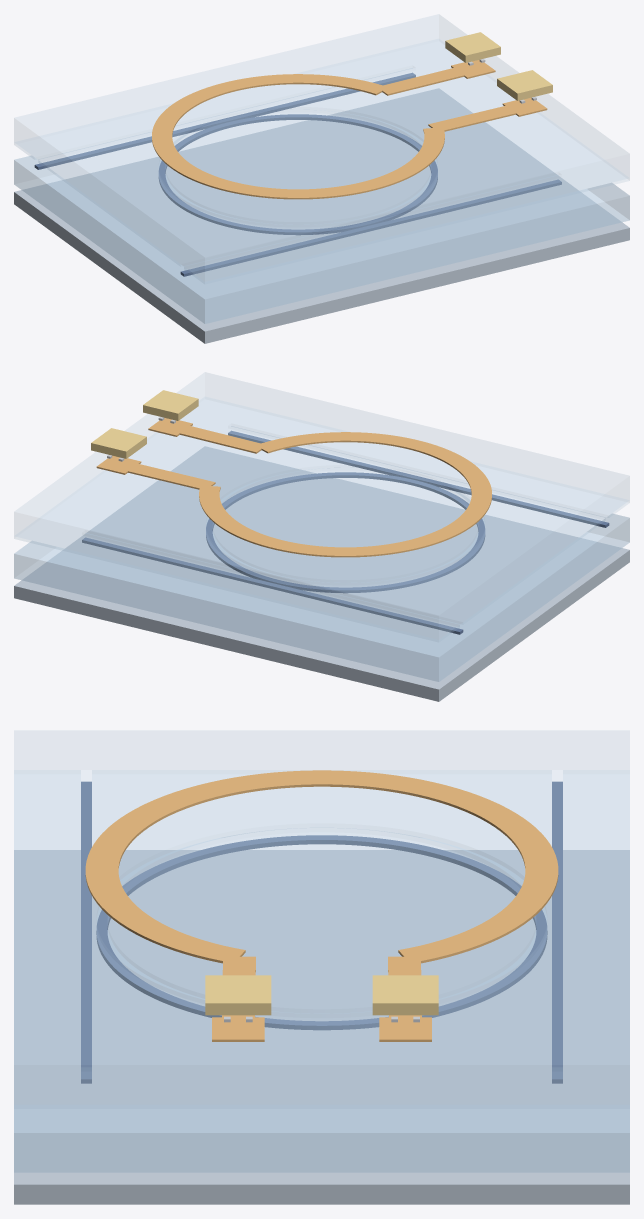
File: stack-ring-x.glb
3 views of the same model, one above another, from view 1: azimuth 30°, elevation 25°; view 2: azimuth 150°, elevation 25°; view 3: azimuth 270°, elevation 25° (orthographic). The views are drawn at different scales.
Visible parts, largest first — view 1: cladd, sisub, box, tin18, siwg, metal1; view 2: cladd, sisub, box, tin18, siwg, metal1; view 3: cladd, sisub, box, tin18, siwg, metal1.
Boxes of the visible parts, bbox=[...] form: cladd: bbox=[14, 14, 629, 283]; sisub: bbox=[14, 88, 629, 343]; box: bbox=[14, 68, 629, 323]; tin18: bbox=[152, 60, 547, 199]; siwg: bbox=[34, 72, 561, 276]; metal1: bbox=[445, 32, 552, 100]; cladd: bbox=[14, 372, 629, 641]; sisub: bbox=[14, 446, 629, 701]; box: bbox=[14, 426, 629, 681]; tin18: bbox=[96, 418, 491, 557]; siwg: bbox=[82, 430, 609, 634]; metal1: bbox=[91, 390, 198, 458]; cladd: bbox=[14, 731, 629, 1108]; sisub: bbox=[14, 850, 629, 1204]; box: bbox=[14, 830, 629, 1172]; tin18: bbox=[85, 770, 558, 1041]; siwg: bbox=[81, 781, 562, 1083]; metal1: bbox=[205, 975, 438, 1015].
Size of the model in its own units: 36 by 9.4 by 28.
